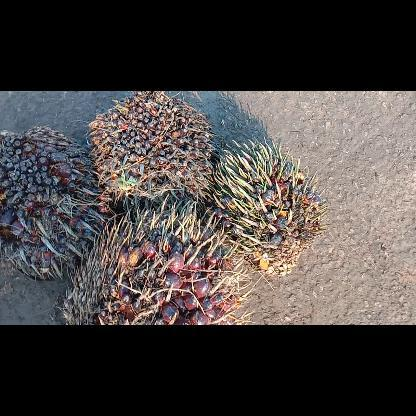TBS abnormal: (0, 122, 122, 280), (81, 91, 223, 221), (212, 133, 330, 281)
TBS masak: (57, 194, 256, 324)
